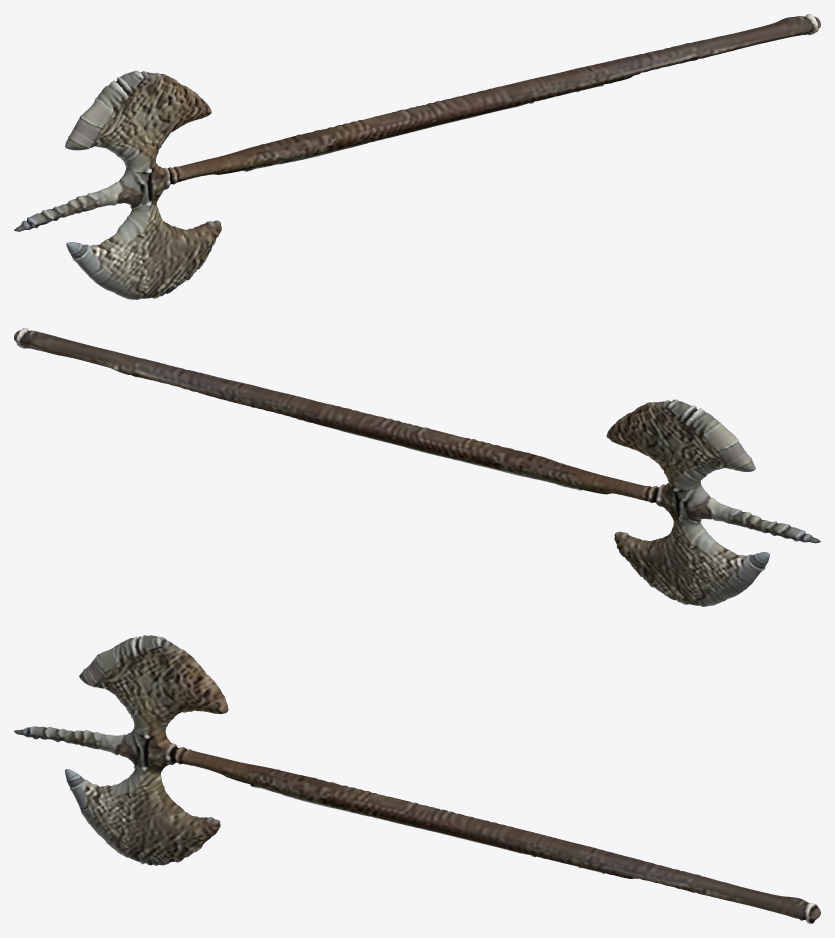
Rendered from kfl-2182.glb.
3 views of the same model, one above another, from view 1: azimuth 30°, elevation 25°; view 2: azimuth 150°, elevation 25°; view 3: azimuth 330°, elevation 25° (orthographic).
Visible parts, largest first — view 1: kfl-2182; view 2: kfl-2182; view 3: kfl-2182.
Boxes of the visible parts, x1,y1,x2,y2 form: kfl-2182: (14,14,820,299); kfl-2182: (14,328,820,606); kfl-2182: (14,635,820,923).
Bounding box in the file's own units: 0.9806 × 0.2501 × 0.0619.
1 material, 1 textured.
